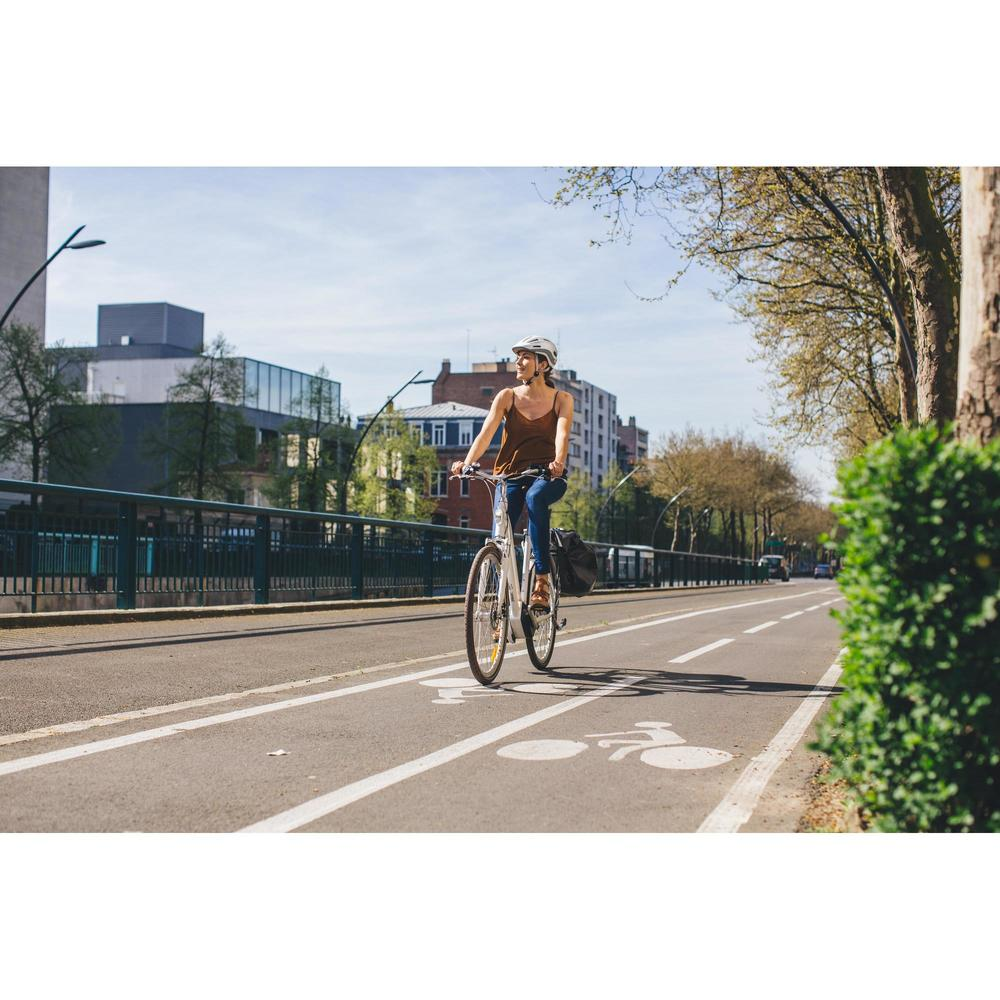UrbanBike: (450, 472, 574, 686)
